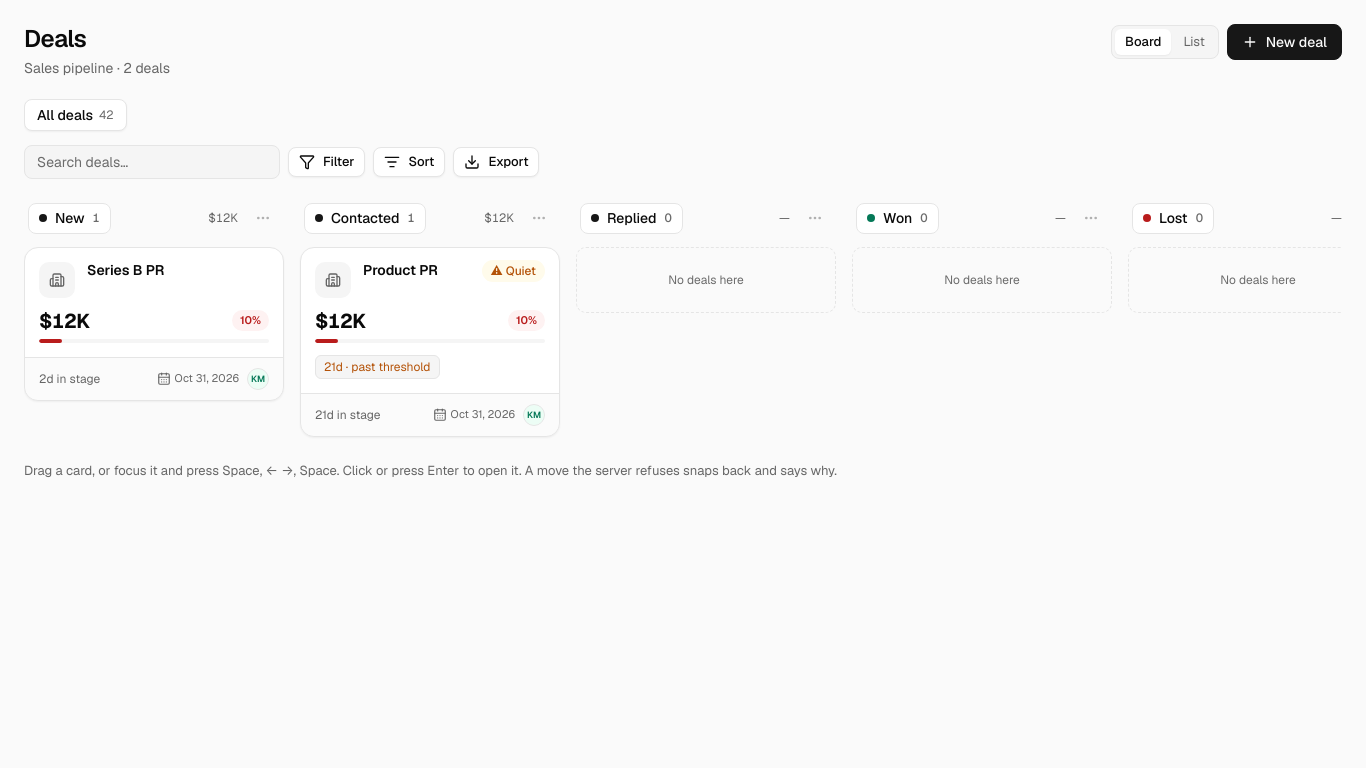
it: DealsPage › offers no Owner condition to an own-scoped member
Click the button "Filter": (327,162) [288,147,365,177]
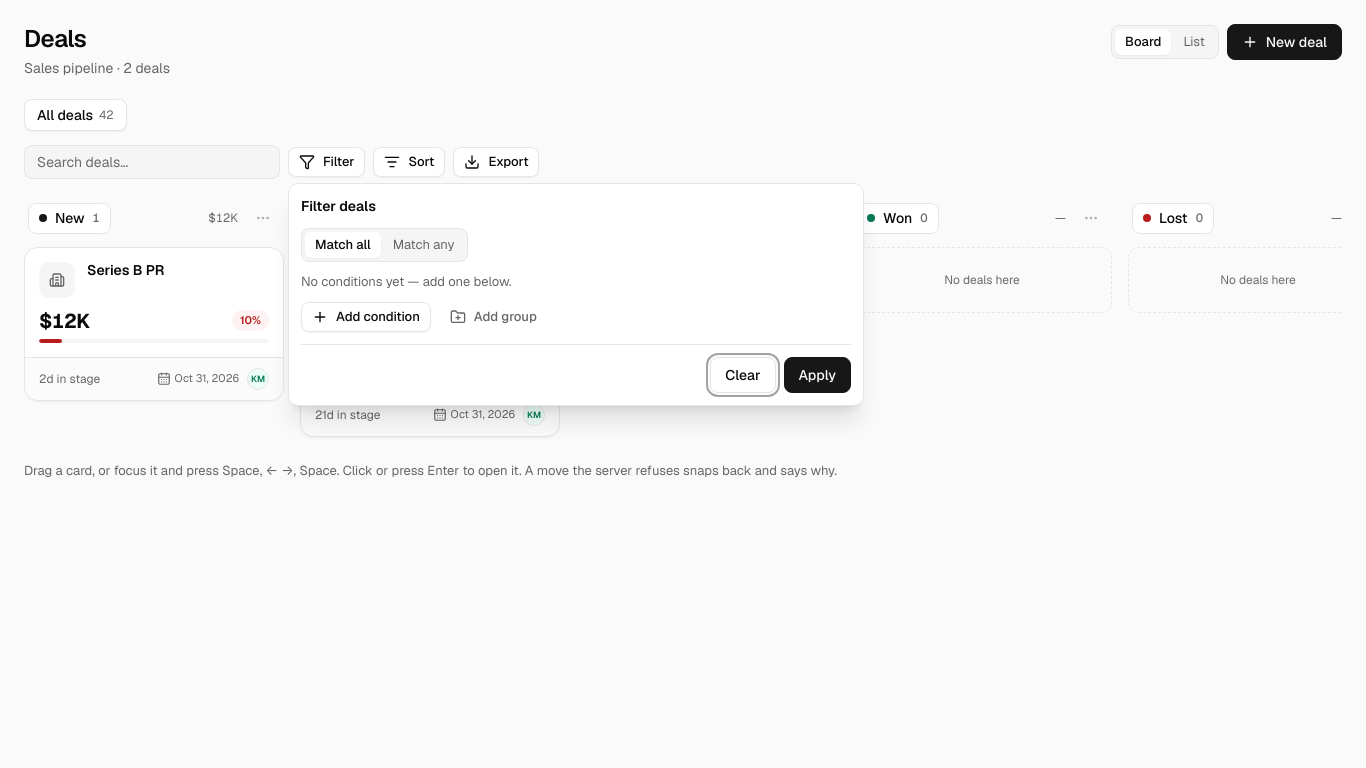
Click the button "Add condition": (366,316) [301,302,431,332]
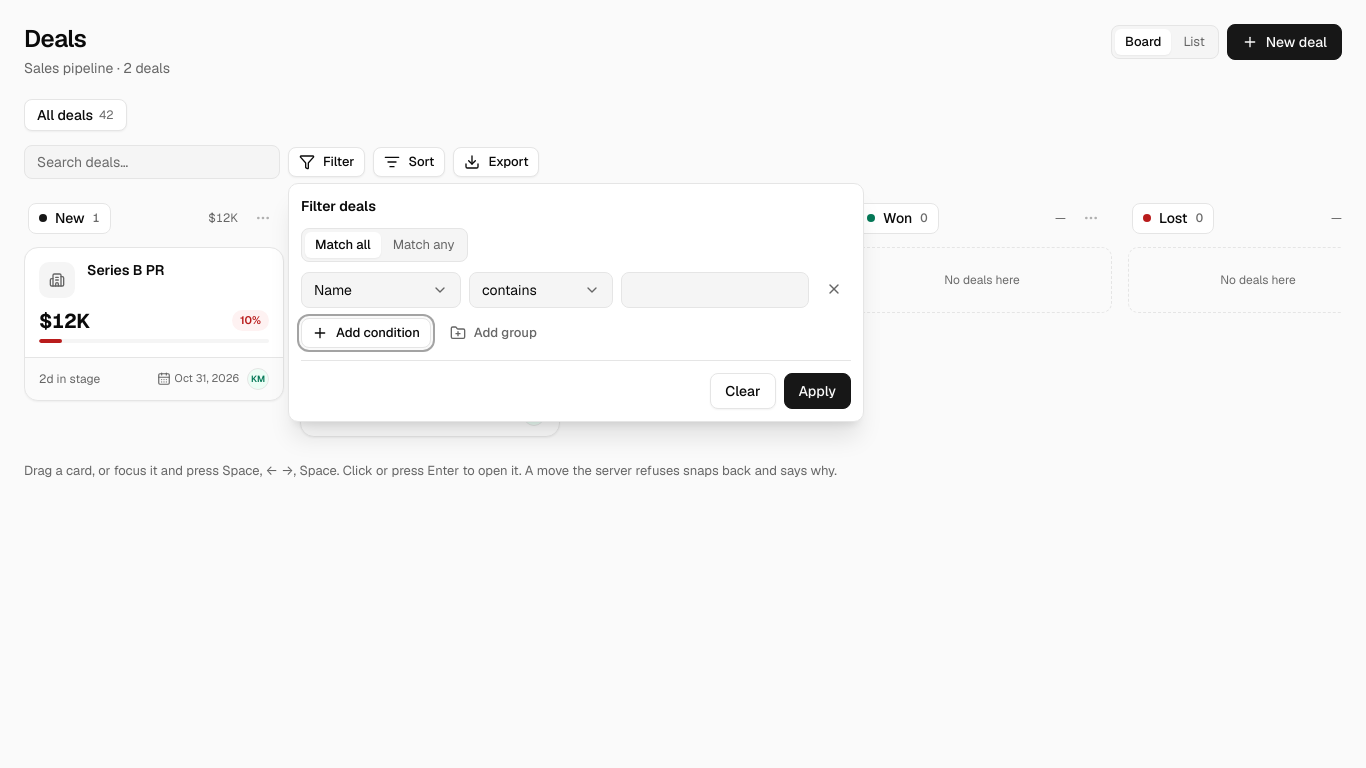
Click the dropdown named "Field": (381,290) [301,272,461,308]
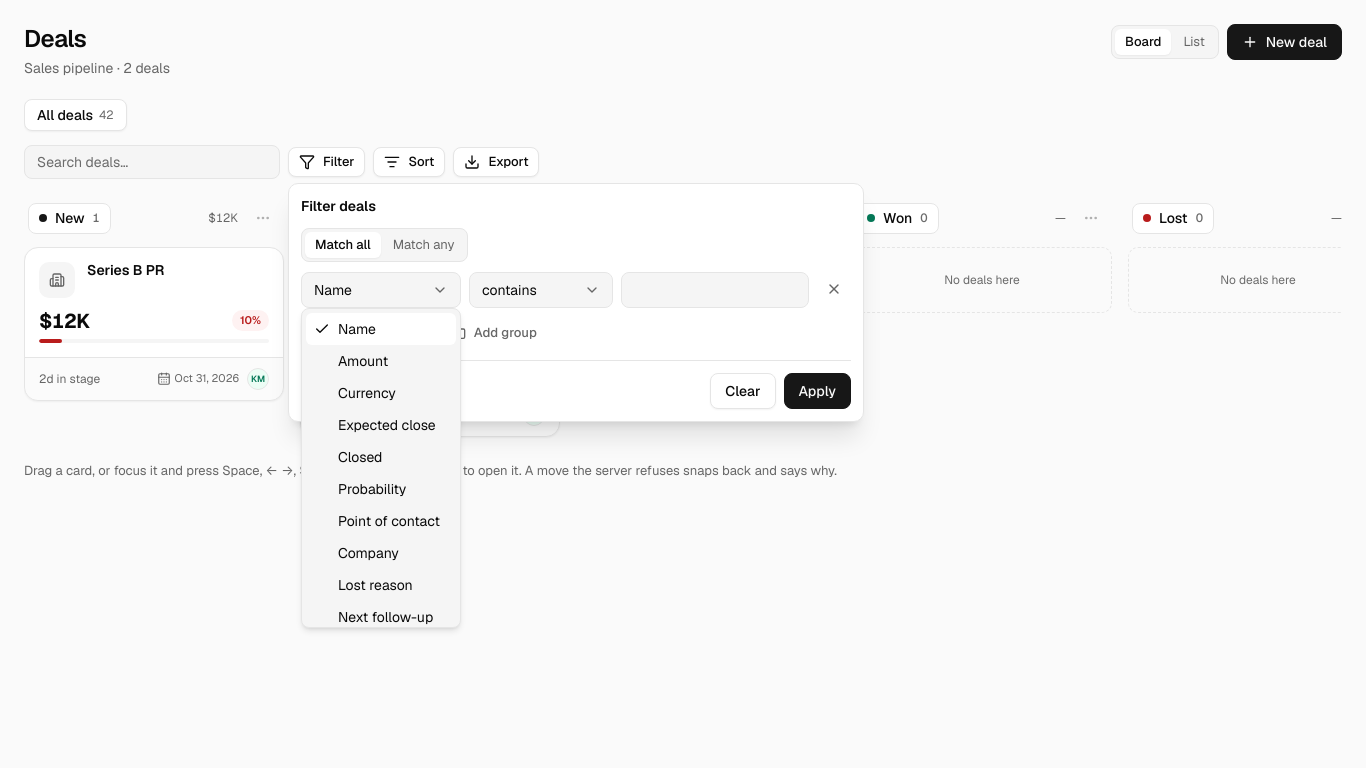
expect the option "Amount" is shown: met, box [338,352,388,370]
